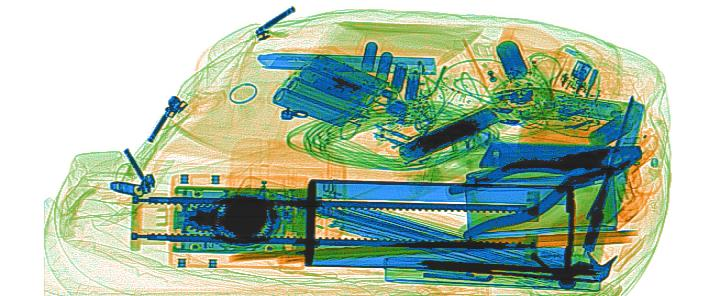battery: (269, 53, 389, 127), (359, 39, 422, 102), (587, 113, 635, 148), (561, 96, 622, 123), (495, 40, 529, 81)
knife: (258, 50, 440, 77), (477, 139, 614, 174)
